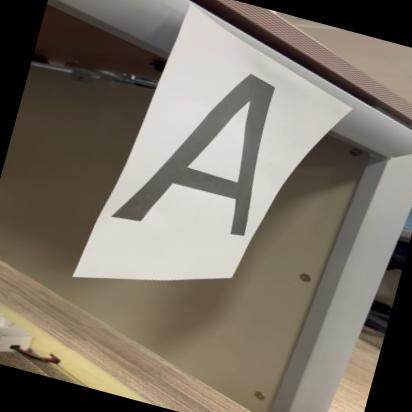seat: (100, 44, 321, 266)
